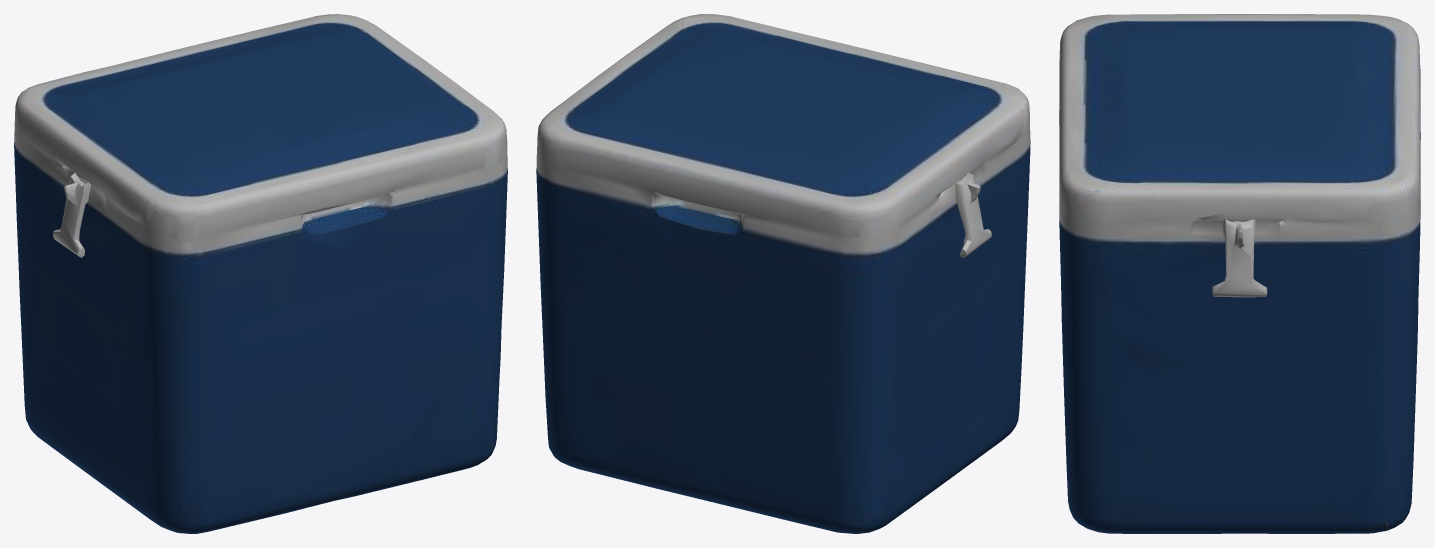
File: cooler.glb
3 views of the same model, side by side, from view 1: azimuth 30°, elevation 25°; view 2: azimuth 150°, elevation 25°; view 3: azimuth 270°, elevation 25° (orthographic). The views are drawn at different scales.
Visible parts, largest first — view 1: cooler; view 2: cooler; view 3: cooler.
Boxes of the visible parts, x1,y1,x2,y2 form: cooler: (14, 14, 507, 533); cooler: (536, 14, 1030, 533); cooler: (1059, 14, 1420, 533).
Bounding box in the file's own units: 0.492 × 0.42 × 0.3748.
1 material, 1 textured.
